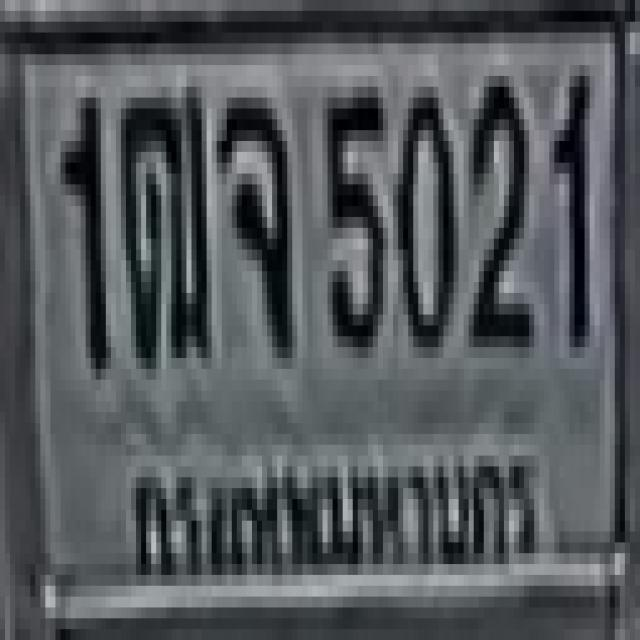0: (393, 76, 454, 347)
1: (60, 87, 101, 358), (549, 65, 585, 336)
2: (466, 70, 527, 342)
5: (322, 81, 378, 342)
A08: (214, 87, 290, 347)
A18: (116, 76, 207, 358)
BKK: (120, 442, 550, 588)
